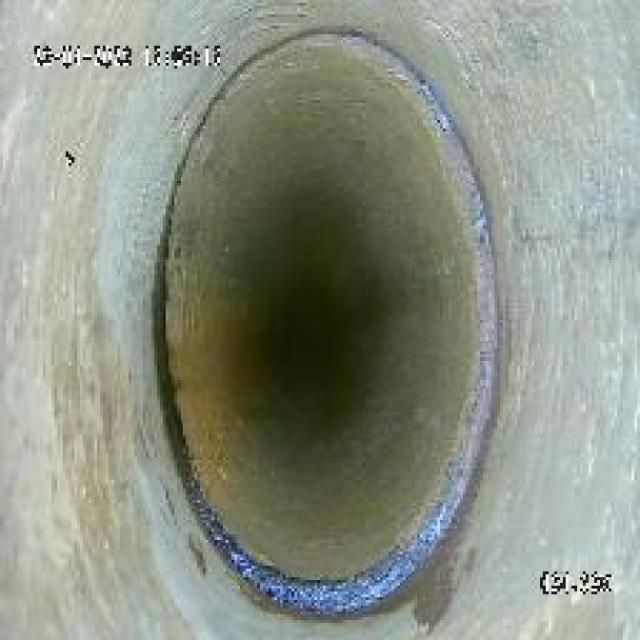joint: (134, 26, 506, 620)
